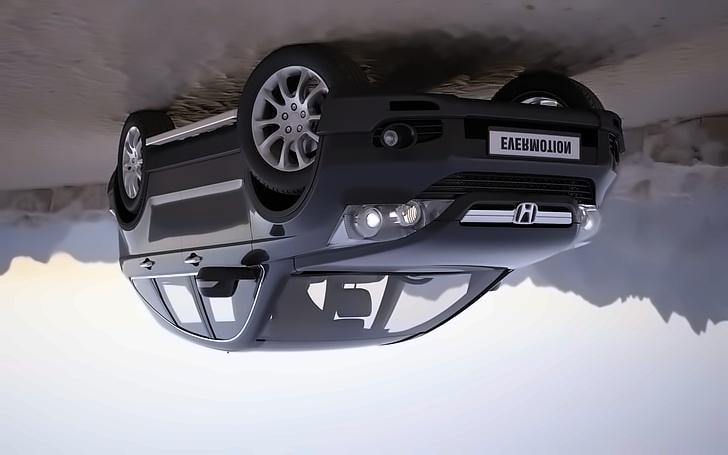Car hood: (293, 221, 592, 278)
Fender - -F-L-: (240, 126, 345, 281)
Fender - -R-L-: (117, 157, 143, 276)
Front bumper: (311, 89, 632, 202)
Headlight - -L-: (323, 195, 458, 257)
Headlight - -R-: (569, 199, 605, 252)
Passenger-s door - -F-L-: (181, 145, 250, 351)
Passenger-s door - -R-L-: (134, 148, 205, 347)
Rear bumper: (94, 163, 128, 220)
Side bumper - -L-: (138, 99, 248, 174)
Side mirror - -L-: (189, 259, 258, 303)
